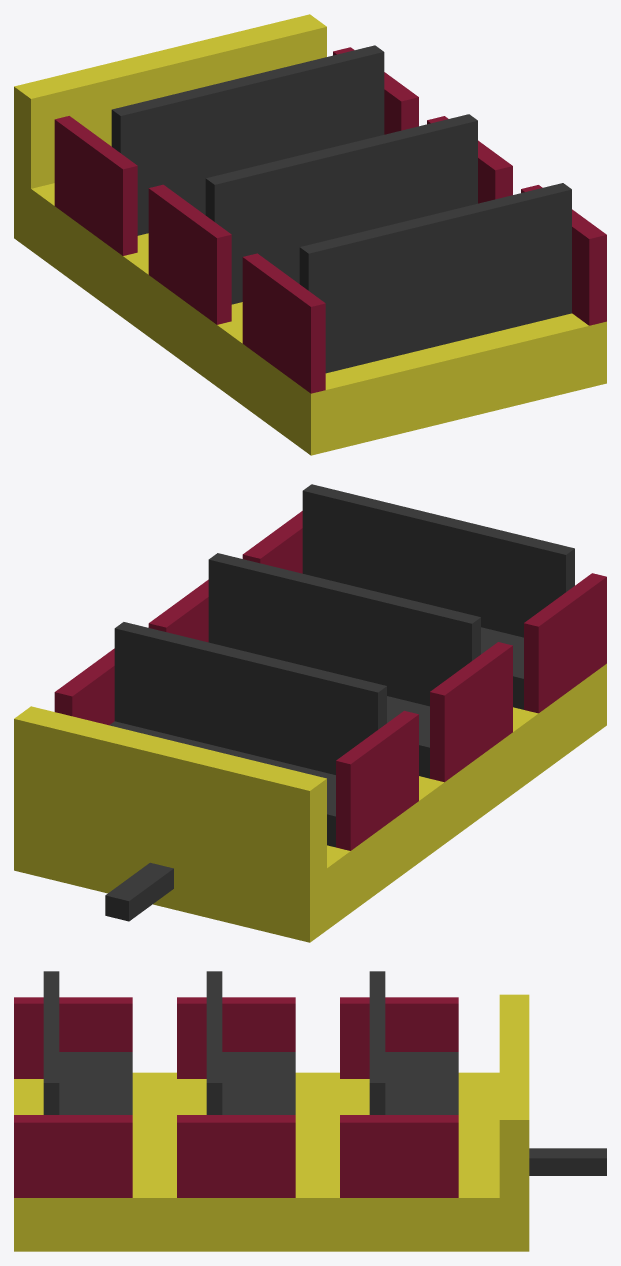
Rendered from RollerCoasterCart02.fbx.
3 renders of one model, top to bottom at view 1: azimuth 30°, elevation 25°; view 2: azimuth 150°, elevation 25°; view 3: azimuth 270°, elevation 25°, orthographic. The views are drawn at different scales.
Visible parts, largest first — view 1: RollerCoasterCart02; view 2: RollerCoasterCart02; view 3: RollerCoasterCart02.
Boxes of the visible parts, bbox=[...] form: RollerCoasterCart02: bbox=[14, 14, 606, 455]; RollerCoasterCart02: bbox=[14, 484, 606, 942]; RollerCoasterCart02: bbox=[14, 971, 606, 1251].
Size of the model in its own units: 100 by 60 by 200.
